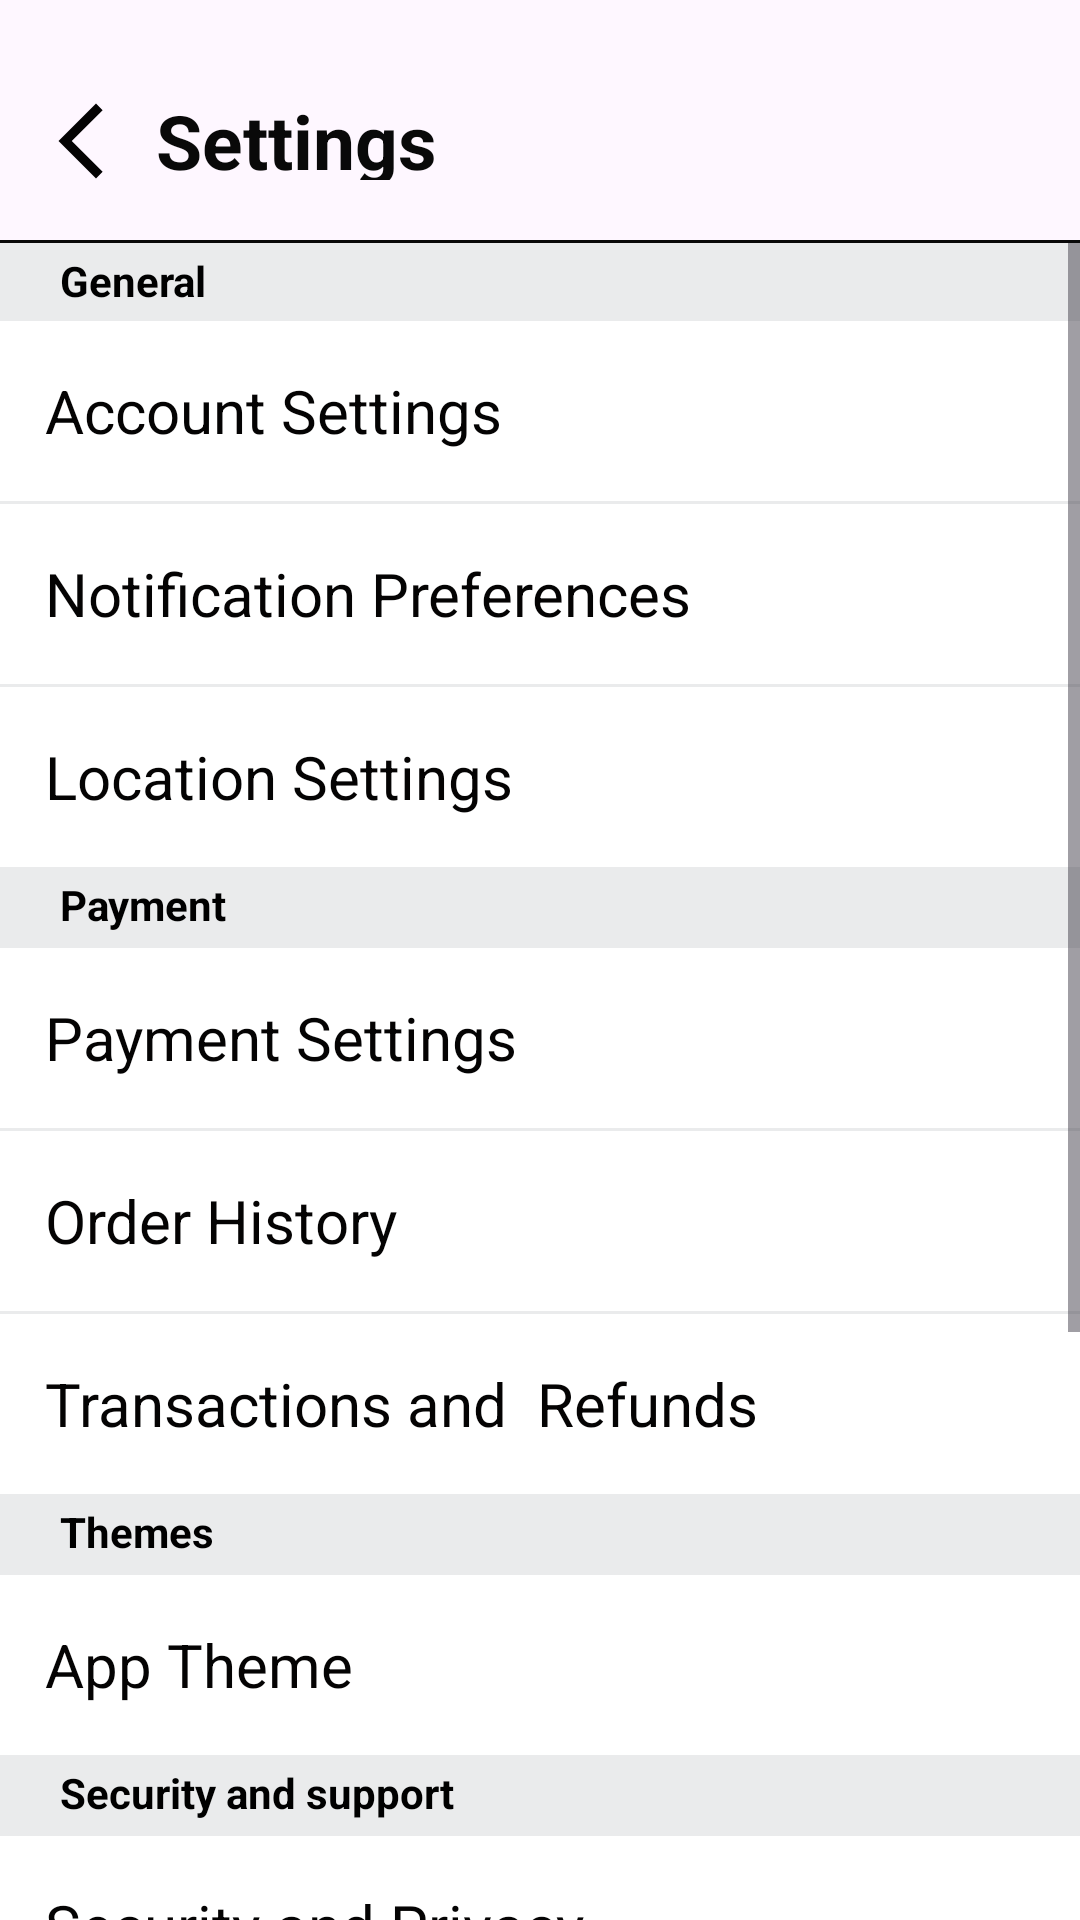

Screen size 1080×1920. Icon name, then its center in pixels as point (x, y):
arrow back: point (80, 141)
